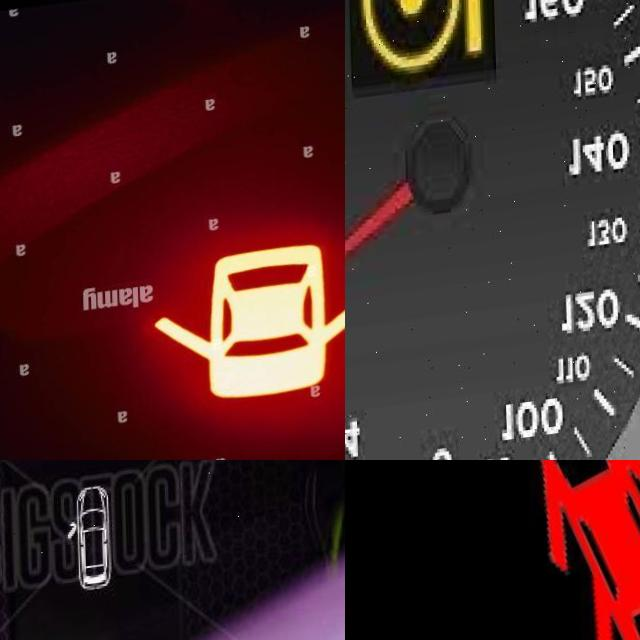Electronic Power Steering Warning: (356, 0, 490, 87)
